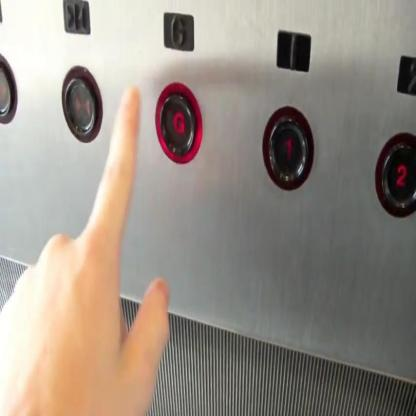1: (261, 103, 314, 193), (276, 29, 311, 72)
2: (374, 129, 416, 219)
G: (154, 80, 203, 166), (162, 10, 195, 53)
close: (61, 64, 103, 142), (61, 0, 90, 36)
